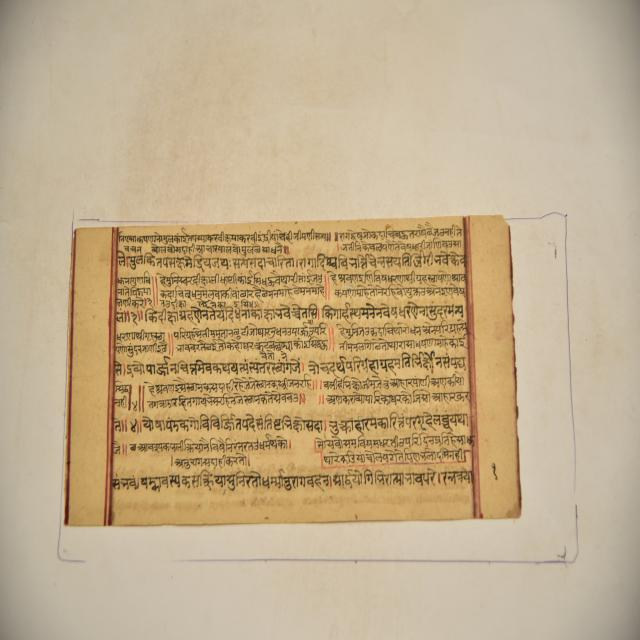text_paragraph: (66, 215, 518, 522)
